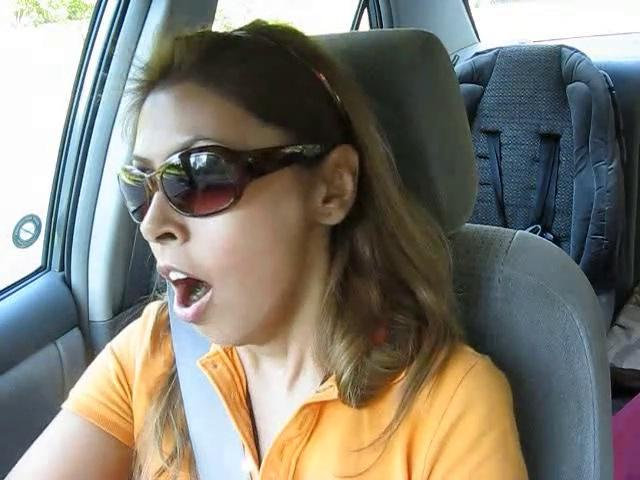yawn: (152, 263, 235, 325)
